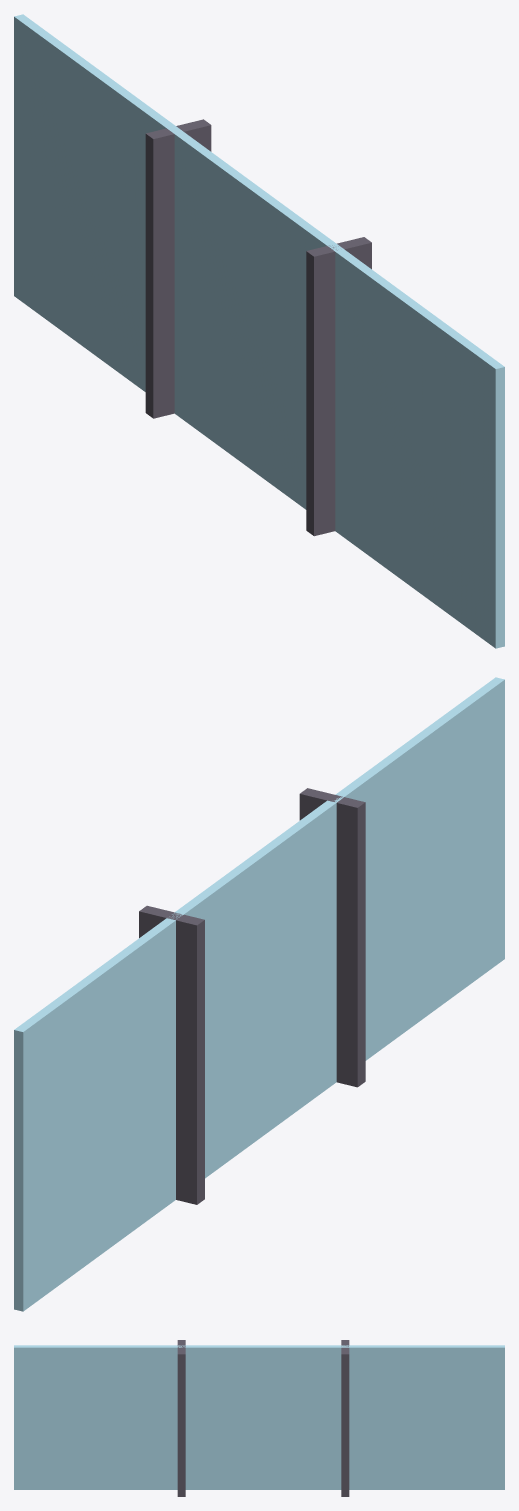
The model's file is 2da_ventana_der.obj.
The picture shows the model from 3 angles, top to bottom: view 1: azimuth 30°, elevation 25°; view 2: azimuth 150°, elevation 25°; view 3: azimuth 270°, elevation 25°; orthographic projection. The views are drawn at different scales.
Visible parts, largest first — view 1: bolleano.001; view 2: bolleano.001; view 3: bolleano.001.
Part boxes in pixels (bbox=[...]): bolleano.001: bbox=[14, 14, 504, 648]; bolleano.001: bbox=[14, 677, 504, 1311]; bolleano.001: bbox=[14, 1340, 504, 1496].
Bounding box in the file's own units: 1 × 4.6 × 14.38.
Materials: 2 (2 with a texture image).
